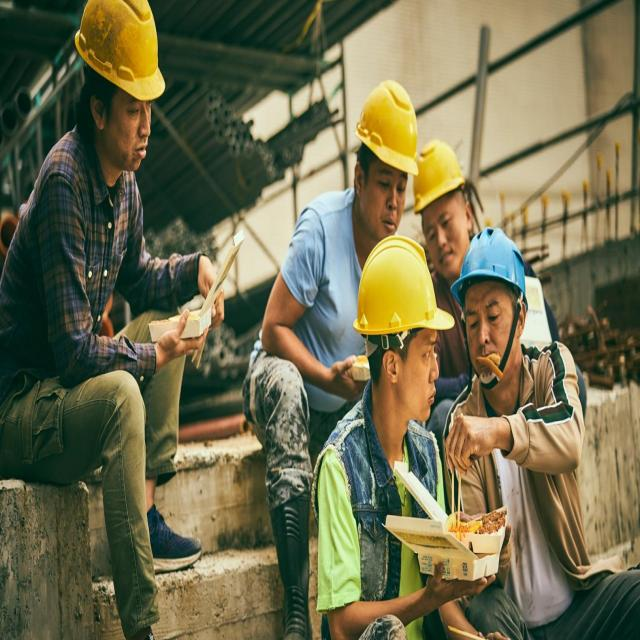Safety-Helmet: (352, 231, 452, 342), (73, 2, 168, 105), (353, 74, 421, 180), (453, 222, 530, 306), (412, 136, 466, 216)
